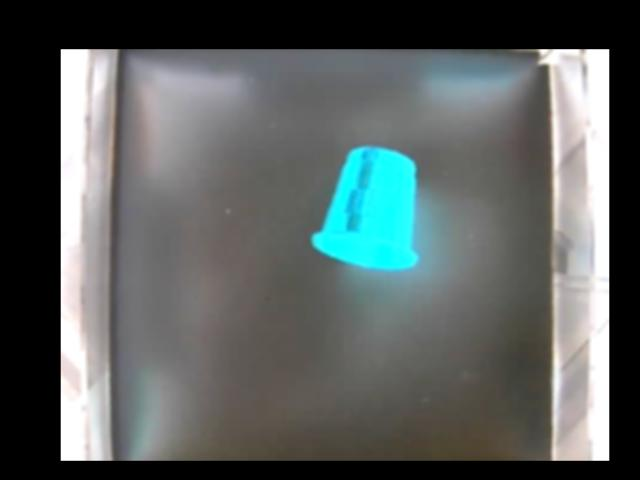Cup: (306, 146, 424, 268)
